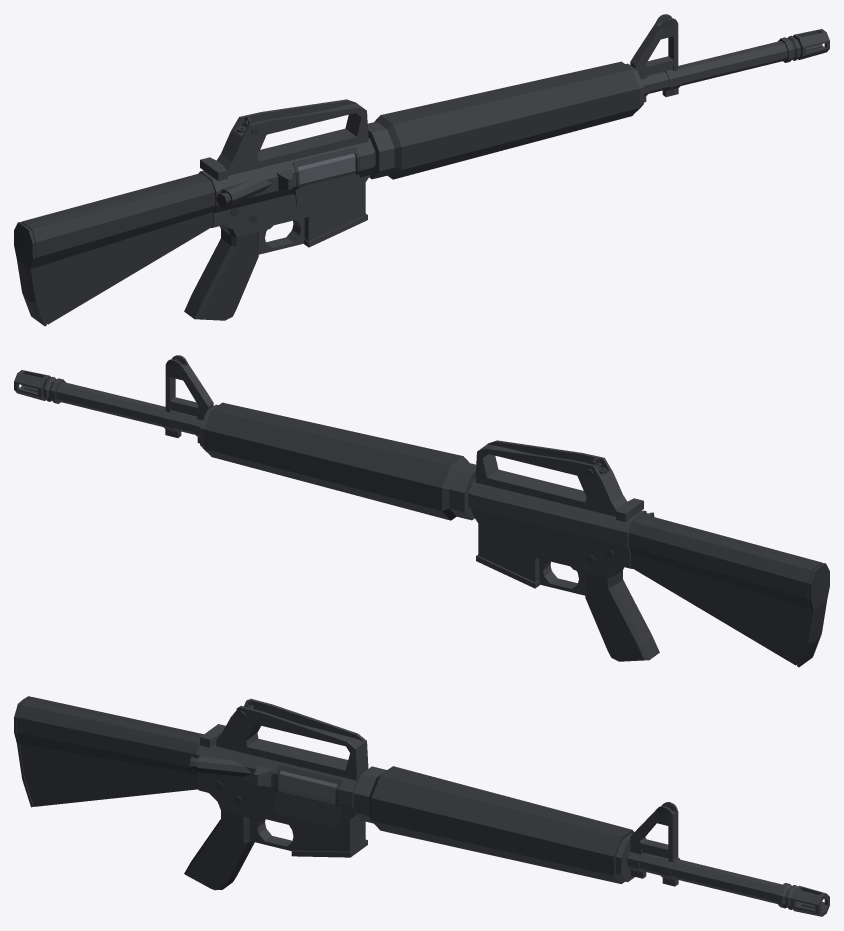
File: SM_AssaultRifle4_03.glb
3 views of the same model, one above another, from view 1: azimuth 30°, elevation 25°; view 2: azimuth 150°, elevation 25°; view 3: azimuth 330°, elevation 25° (orthographic).
Parts seen in each view (by area): view 1: SM_AssaultRifle4_03; view 2: SM_AssaultRifle4_03; view 3: SM_AssaultRifle4_03.
Boxes of the visible parts, <box> form: SM_AssaultRifle4_03: <box>14,14,829,326</box>; SM_AssaultRifle4_03: <box>14,355,829,667</box>; SM_AssaultRifle4_03: <box>14,696,829,916</box>.
Size of the model in its own units: 1.04 by 0.2381 by 0.0756.
Materials: 1 (1 with a texture image).
